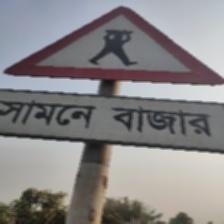Market-in-front: (2, 6, 222, 153)
